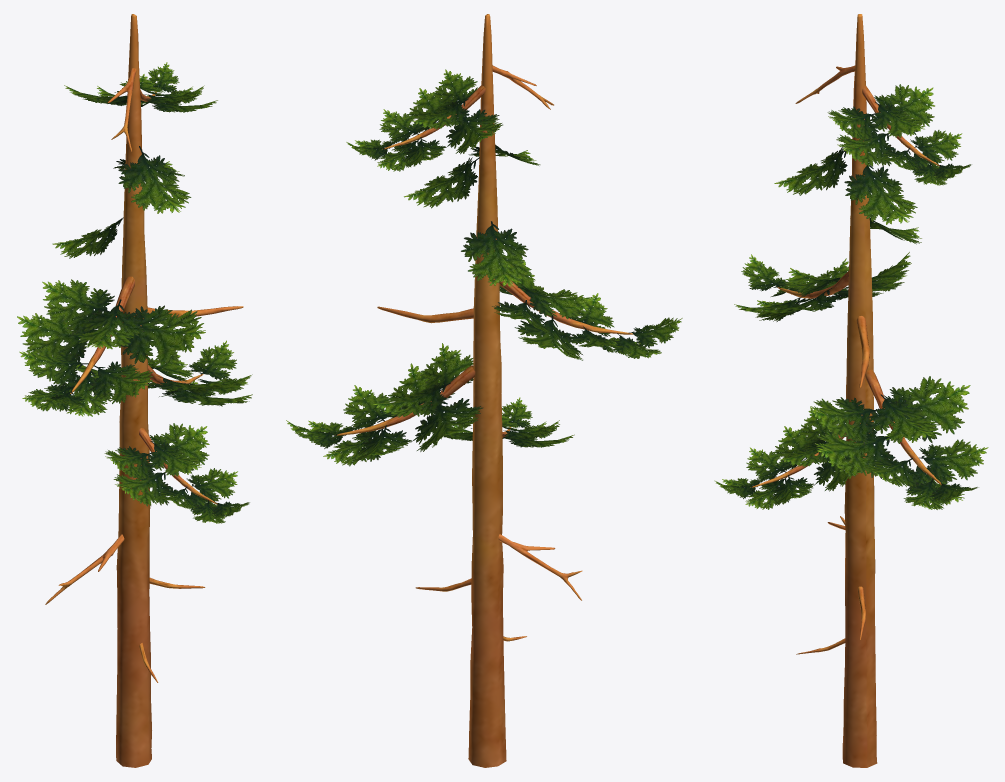
File: Pine model  A (6).glb
3 views of the same model, side by side, from view 1: azimuth 30°, elevation 25°; view 2: azimuth 150°, elevation 25°; view 3: azimuth 270°, elevation 25° (orthographic).
Visible parts, largest first — view 1: small_stylized_pine_var1_m_leaves_0, small_stylized_pine_var1_m_trunk_0; view 2: small_stylized_pine_var1_m_leaves_0, small_stylized_pine_var1_m_trunk_0; view 3: small_stylized_pine_var1_m_leaves_0, small_stylized_pine_var1_m_trunk_0.
Part boxes in pixels (x1,y1,x2,y2): small_stylized_pine_var1_m_leaves_0: (17,62,252,523); small_stylized_pine_var1_m_trunk_0: (45,14,243,767); small_stylized_pine_var1_m_leaves_0: (286,69,682,466); small_stylized_pine_var1_m_trunk_0: (337,14,633,767); small_stylized_pine_var1_m_leaves_0: (714,84,988,509); small_stylized_pine_var1_m_trunk_0: (750,14,941,767).
Size of the model in its own units: 346 by 830 by 280.
Materials: 2 (2 with a texture image).
